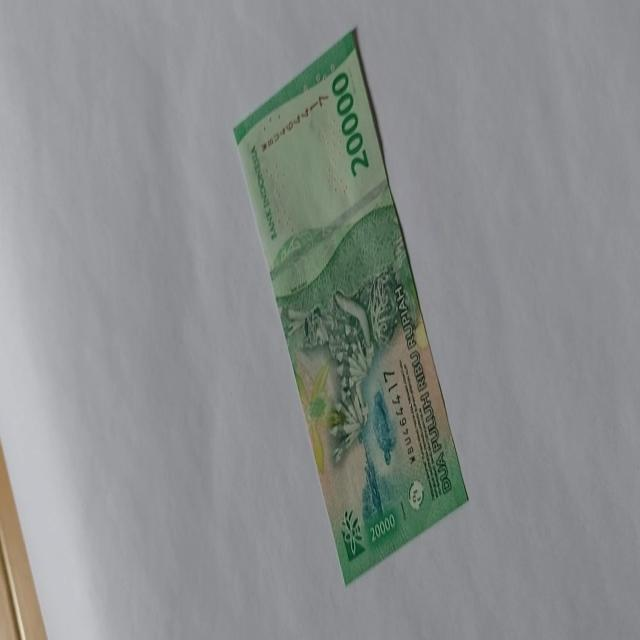dua puluh ribu rupiah: (231, 27, 469, 585), (272, 200, 418, 475)
